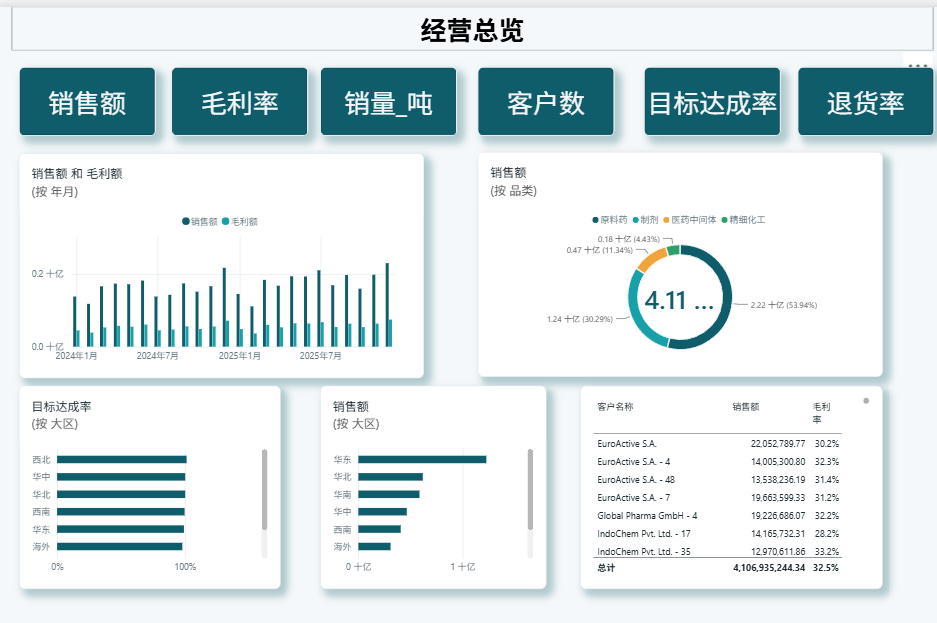

What the dashboard file says about the page in this screenshot:
{"tool":"powerbi","page":{"name":"经营总览","canvas":[1280,1080],"ordinal":0},"visuals":[{"type":"shape","box":[24.1,0,1229.4,57.9],"z":0},{"type":"shape","box":[32.6,79.6,182,92],"z":1000},{"type":"shape","box":[236.5,79.6,182.2,91.7],"z":2000},{"type":"shape","box":[435.5,79.6,182.2,91.7],"z":3000},{"type":"shape","box":[645.4,79.6,182.2,91.7],"z":4000},{"type":"shape","box":[866.2,79.6,182.2,91.7],"z":5000},{"type":"shape","box":[1071.3,79.6,182,92],"z":6000},{"type":"lineClusteredColumnComboChart","fields":{"Category":["04_日期维度.年月"],"Y":["KPI.销售额","KPI.毛利额"]},"box":[32.6,194.2,540,300],"z":7000},{"type":"donutChart","fields":{"Category":["02_产品维度.品类"],"Y":["KPI.销售额"]},"box":[645,194,540,300],"z":9000},{"type":"barChart","fields":{"Category":["12_大区维度.Column1"],"Y":["KPI.目标达成率"]},"box":[32.9,504.3,348.6,271.4],"z":10000},{"type":"barChart","fields":{"Category":["12_大区维度.Column1"],"Y":["KPI.销售额"]},"box":[435.7,504.3,301.4,271.4],"z":11000},{"type":"tableEx","fields":{"Values":["03_客户维度.客户名称","KPI.销售额","KPI.毛利率"]},"box":[781.4,504.3,402.9,271.4],"z":11001}]}

Visuals, with their boxes on the page's 1280x1080 design canvas (x1, y1, x2, y2). These are canvas units, not pixel positions in the 937x623 screenshot, which may show the page scaled, cropped or inside an application window:
shape: {"left": 24, "top": 0, "right": 1254, "bottom": 58}
shape: {"left": 33, "top": 80, "right": 215, "bottom": 172}
shape: {"left": 236, "top": 80, "right": 419, "bottom": 171}
shape: {"left": 436, "top": 80, "right": 618, "bottom": 171}
shape: {"left": 645, "top": 80, "right": 828, "bottom": 171}
shape: {"left": 866, "top": 80, "right": 1048, "bottom": 171}
shape: {"left": 1071, "top": 80, "right": 1253, "bottom": 172}
lineClusteredColumnComboChart - 04_日期维度.年月 x KPI.销售额: {"left": 33, "top": 194, "right": 573, "bottom": 494}
donutChart - 02_产品维度.品类 x KPI.销售额: {"left": 645, "top": 194, "right": 1185, "bottom": 494}
barChart - 12_大区维度.Column1 x KPI.目标达成率: {"left": 33, "top": 504, "right": 382, "bottom": 776}
barChart - 12_大区维度.Column1 x KPI.销售额: {"left": 436, "top": 504, "right": 737, "bottom": 776}
tableEx - 03_客户维度.客户名称 x KPI.销售额: {"left": 781, "top": 504, "right": 1184, "bottom": 776}
